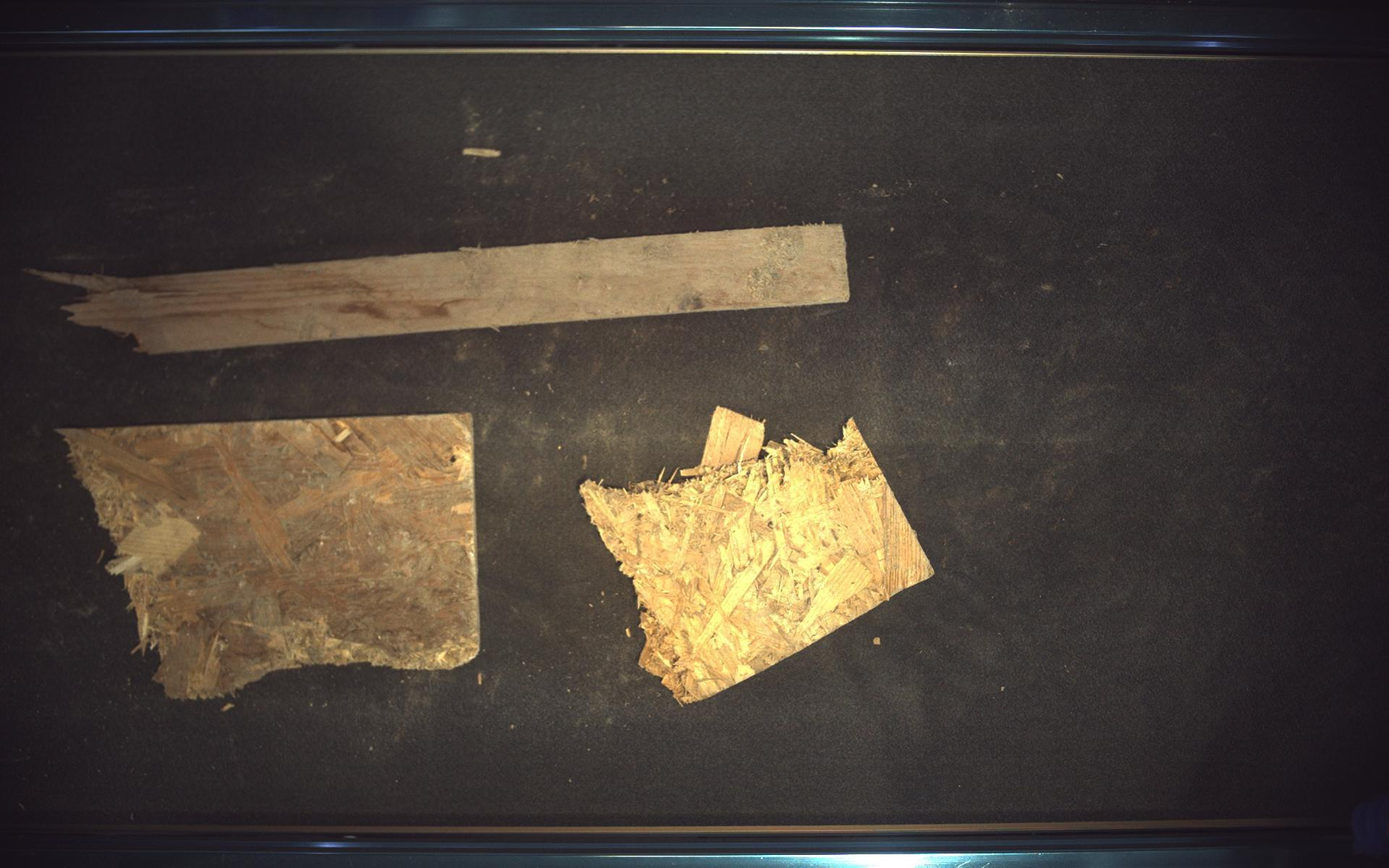wood: (57, 414, 480, 700), (33, 224, 851, 354), (580, 407, 935, 704)
